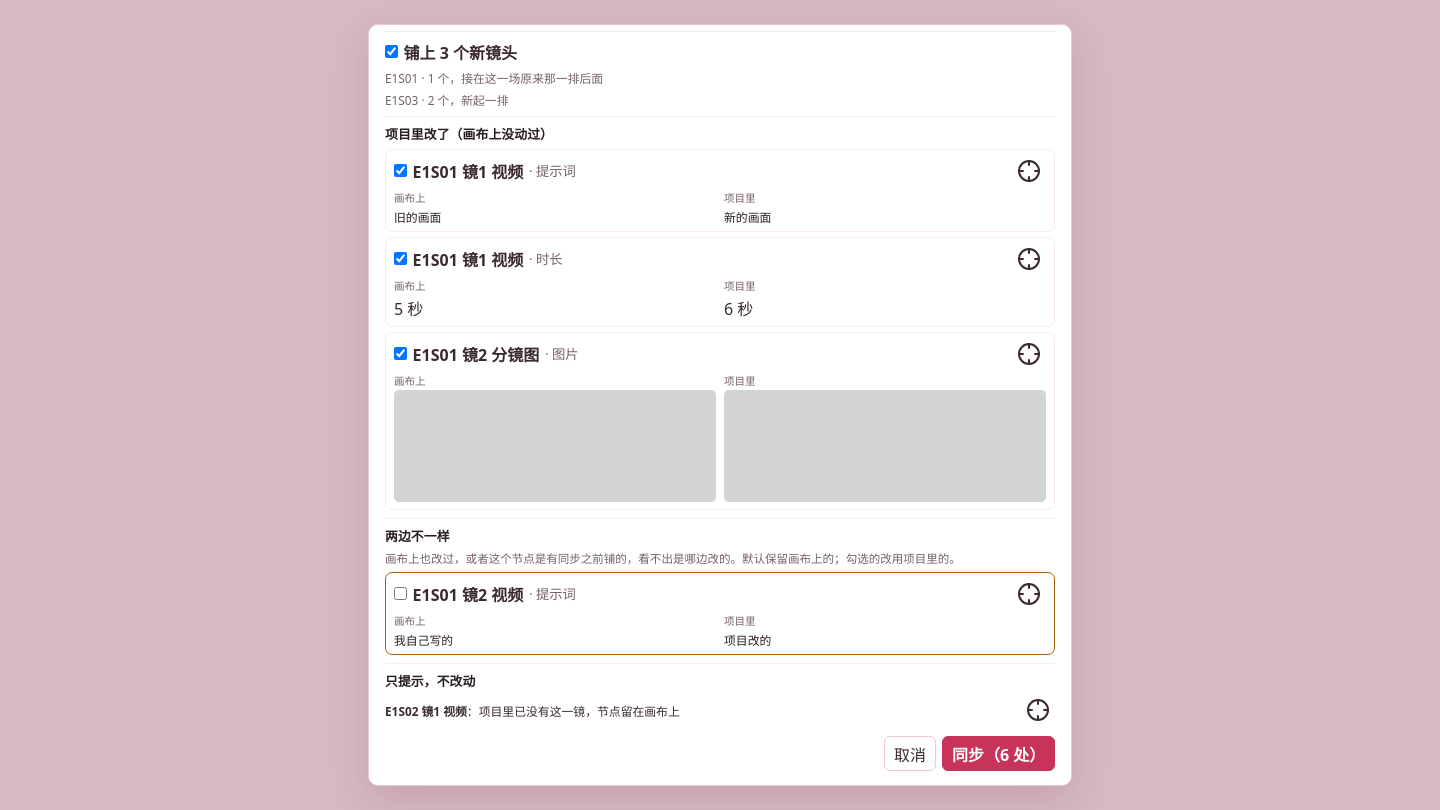
Scenario: syncing the canvas with the project › offers to look again when things moved after the review
Later steps or results of the test are not shown.
(page scrolled)
Click the button "同步（6 处）".
click(999, 754)  # box [942,736,1055,771]
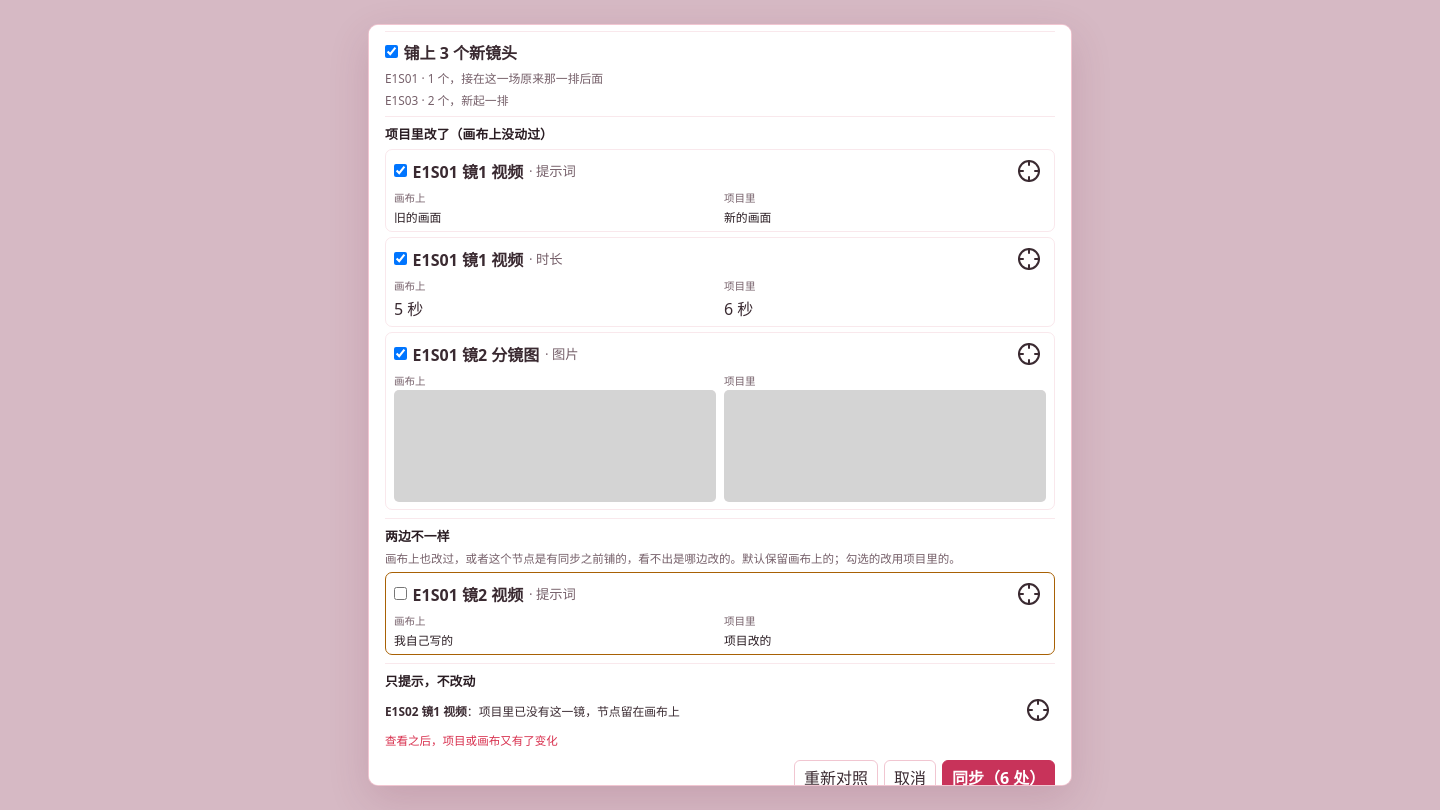
Now the text "查看之后，项目或画布又有了变化" is shown, box [385,733,558,748]
